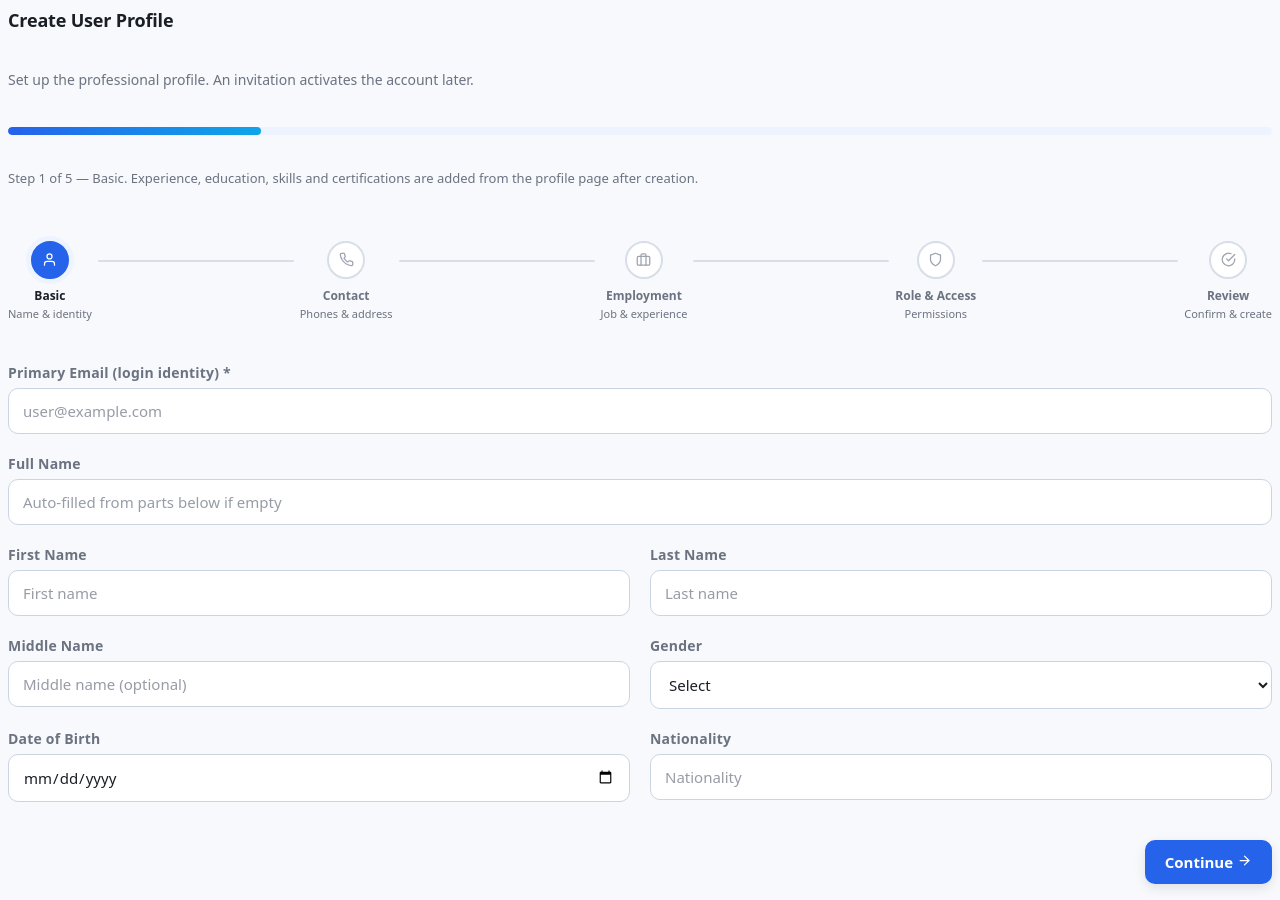
UserForm (create mode) › requires a valid email before continuing
This screenshot has width=1280, height=900.
Click the button "Continue".
click(1208, 862)  # box x1=1145 y1=840 x2=1272 y2=884
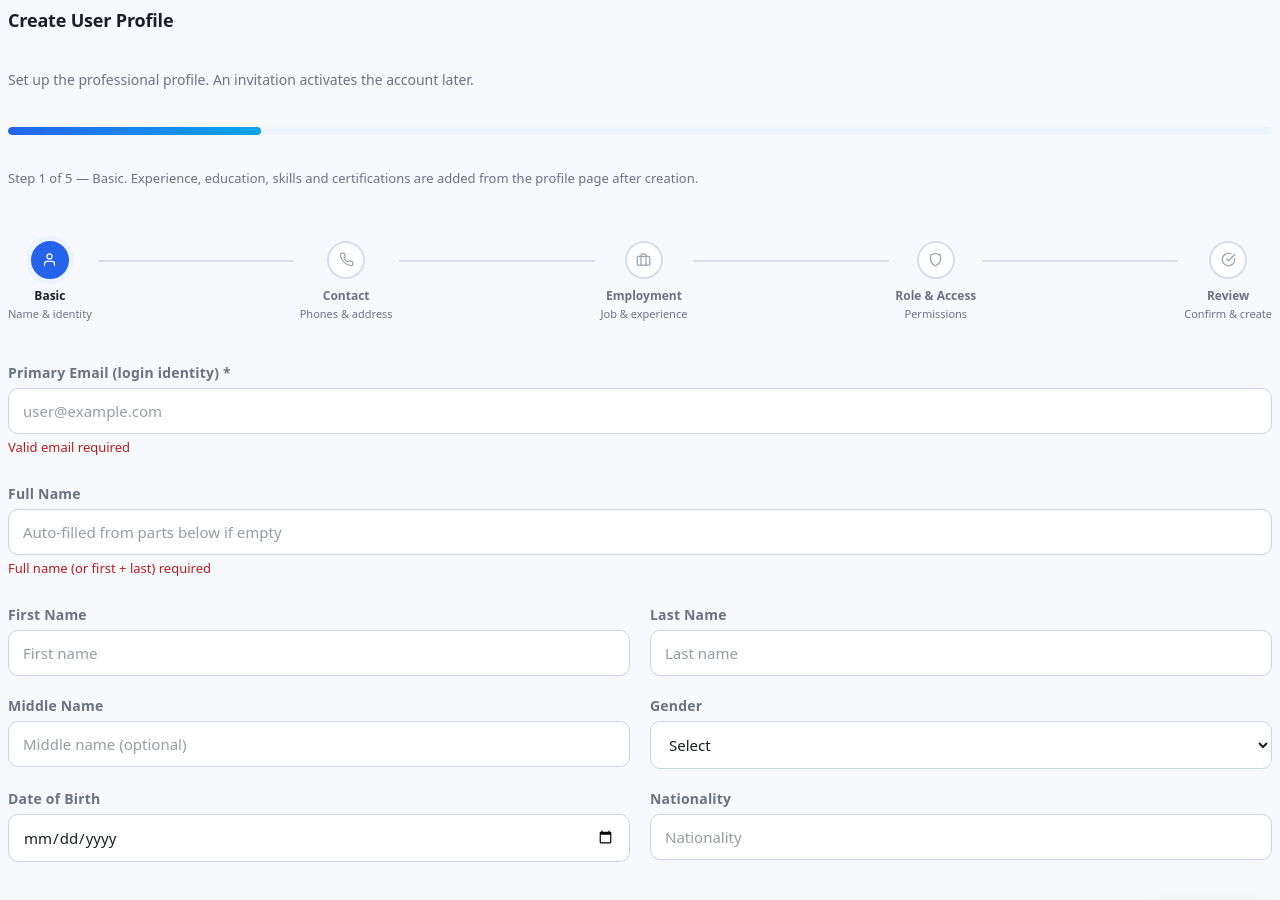
Check: the text "Valid email required" is shown, box x1=8 y1=438 x2=130 y2=456
